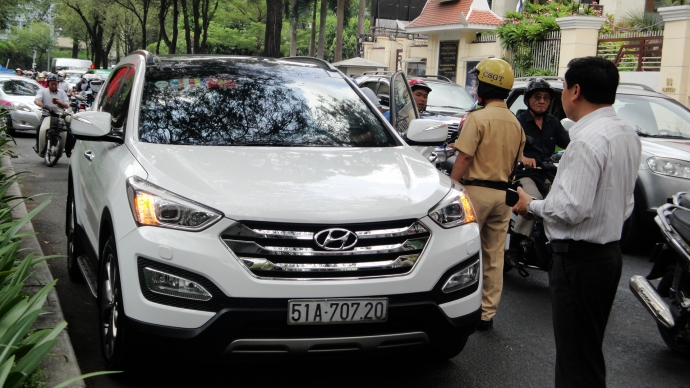police: (444, 59, 537, 329)
